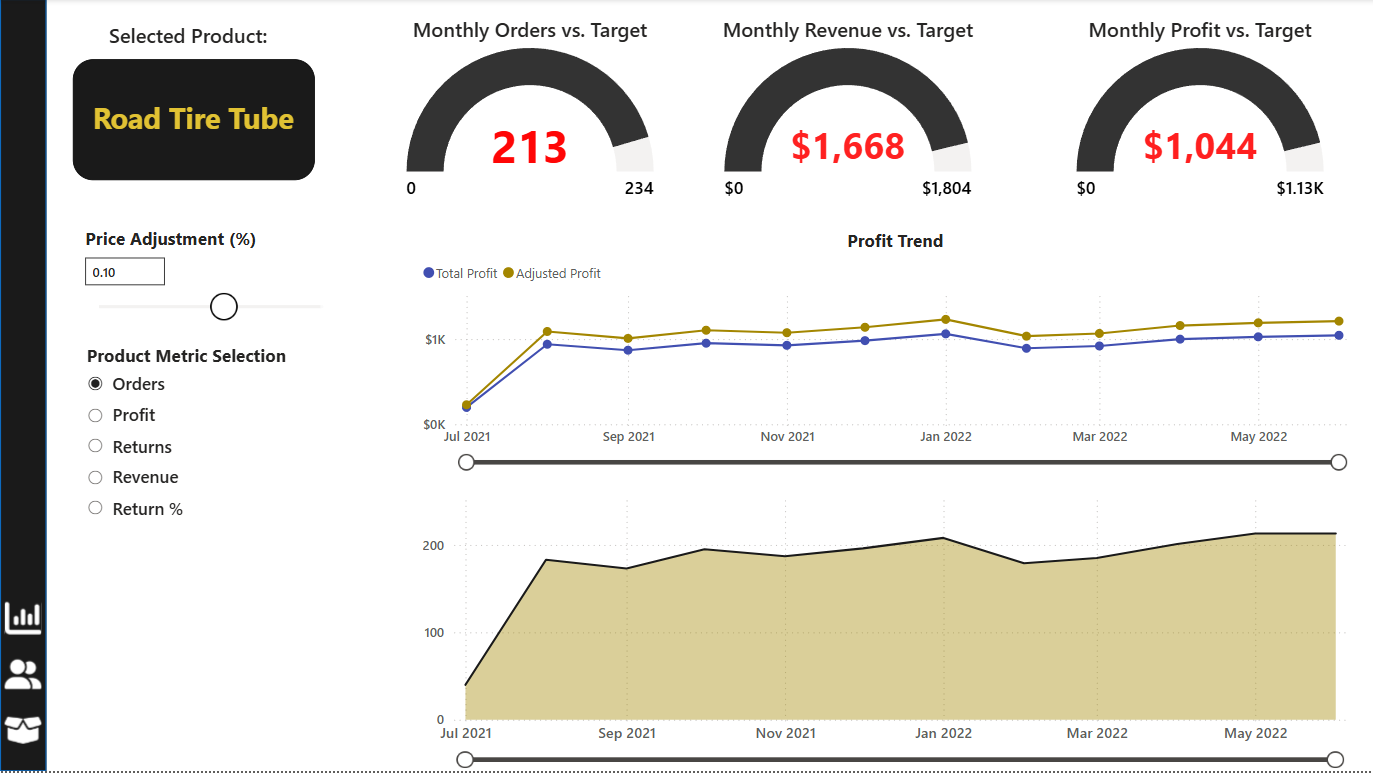

The dashboard page shown, as its layout file describes it:
{"tool":"powerbi","page":{"name":"Product Insights","canvas":[1280,720],"ordinal":2},"visuals":[{"type":"shape","box":[0,0,43.3,720],"z":0},{"type":"gauge","title":"Monthly Revenue vs. Target","fields":{"Y":["Measure Table.Total Revenue"],"MaxValue":["Measure Table.Revenue Target"]},"box":[644.4,16.1,291.5,181.6],"z":1000},{"type":"actionButton","box":[0,602.9,42.5,52.4],"z":1000,"group":"g1"},{"type":"gauge","title":"Monthly Orders vs. Target","fields":{"Y":["Measure Table.Total Orders"],"MaxValue":["Measure Table.Order Target"]},"box":[348.6,16.1,291.5,181.6],"z":2000},{"type":"gauge","title":"Monthly Profit vs. Target","fields":{"Y":["Measure Table.Total Profit"],"MaxValue":["Measure Table.Profit Target"]},"box":[984.2,16.1,269.5,181.6],"z":3000},{"type":"actionButton","box":[0,655.2,42.5,52.4],"z":3000,"group":"g1"},{"type":"lineChart","title":"Profit Trend","fields":{"Category":["Calendar Lookup.Date Hierarchy.Year","Calendar Lookup.Date Hierarchy.Start of Month","Calendar Lookup.Date Hierarchy.Start of Week","Calendar Lookup.Date Hierarchy.Date"],"Y":["Measure Table.Total Profit","Measure Table.Adjusted Profit"]},"box":[388.6,214.3,891.4,228.6],"z":4000},{"type":"actionButton","box":[0,550.5,42.5,52.4],"z":4000,"group":"g1"},{"type":"areaChart","title":"Returns Trend","fields":{"Y":["Measure Table.Total Orders"],"Category":["Calendar Lookup.Date Hierarchy.Year","Calendar Lookup.Date Hierarchy.Start of Month","Calendar Lookup.Date Hierarchy.Start of Week","Calendar Lookup.Date Hierarchy.Date"]},"box":[388.6,454.3,891.4,265.7],"z":5000},{"type":"card","fields":{"Values":["Min(Product Lookup.ProductName)"]},"box":[67.4,55.7,225.6,112.8],"z":6000},{"type":"textbox","box":[80.6,16.1,188.9,39.5],"z":7000},{"type":"group","id":"g1","title":"Page Navigators","box":[0,550.5,42.5,157.1],"z":8000},{"type":"slicer","fields":{"Values":["Price Adjustment (%).Price Adjustment (%)"]},"box":[67.1,207.1,255.7,152.9],"z":9000},{"type":"slicer","fields":{"Values":["Product Metric Selection.Product Metric Selection"]},"box":[67.4,316.4,253.4,180.1],"z":10000}]}

Visuals, with their boxes on the page's 1280x720 design canvas (x1, y1, x2, y2). These are canvas units, not pixel positions in the 1373x773 screenshot, which may show the page scaled, cropped or inside an application window:
shape: 0:0:43:720
"Monthly Revenue vs. Target" gauge: 644:16:936:198
actionButton: 0:603:42:655
"Monthly Orders vs. Target" gauge: 349:16:640:198
"Monthly Profit vs. Target" gauge: 984:16:1254:198
actionButton: 0:655:42:708
"Profit Trend" lineChart: 389:214:1280:443
actionButton: 0:550:42:603
"Returns Trend" areaChart: 389:454:1280:720
card - Min(Product Lookup.ProductName): 67:56:293:168
textbox: 81:16:270:56
"Page Navigators" group: 0:550:42:708
slicer - Price Adjustment (%).Price Adjustment (%): 67:207:323:360
slicer - Product Metric Selection.Product Metric Selection: 67:316:321:496
